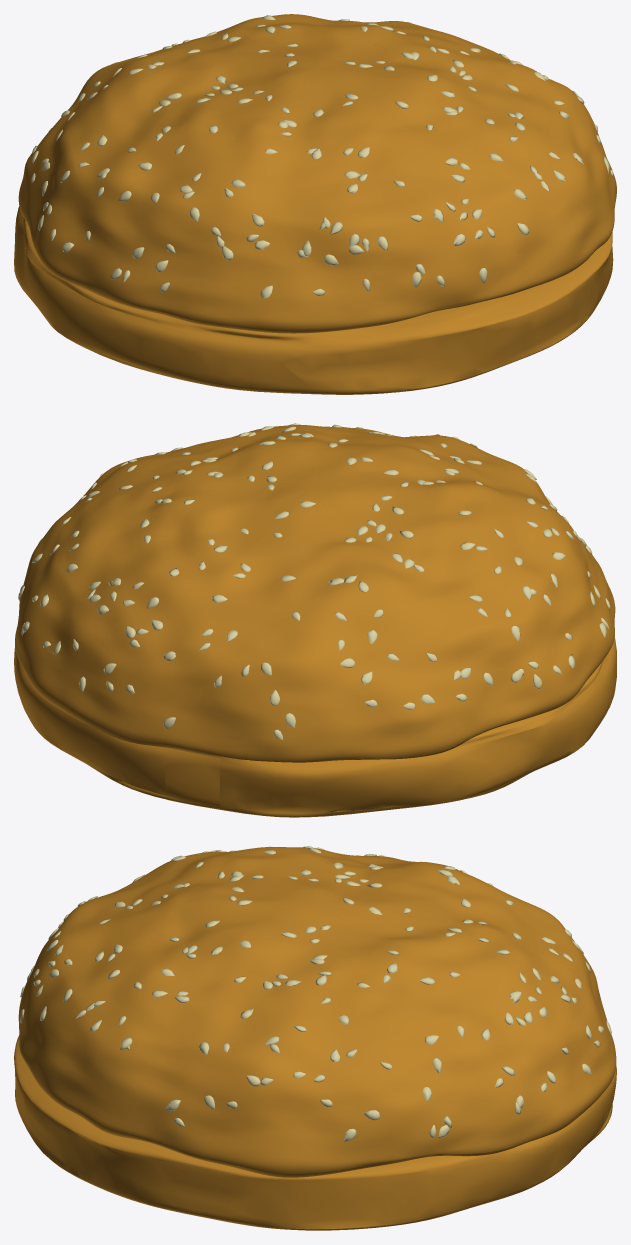
The model's file is hamburgerbuns.fbx.
The picture shows the model from 3 angles, top to bottom: view 1: azimuth 30°, elevation 25°; view 2: azimuth 150°, elevation 25°; view 3: azimuth 270°, elevation 25°; orthographic projection.
Parts seen in each view (by area): view 1: Cylinder.004, Cylinder.001, Sphere.001; view 2: Cylinder.004, Cylinder.001, Sphere.001; view 3: Cylinder.004, Cylinder.001, Sphere.001.
Boxes of the visible parts, x1,y1,x2,y2 form: Cylinder.004: [18, 14, 616, 333]; Cylinder.001: [14, 206, 613, 394]; Sphere.001: [31, 15, 613, 298]; Cylinder.004: [15, 425, 615, 762]; Cylinder.001: [14, 549, 616, 817]; Sphere.001: [18, 423, 610, 740]; Cylinder.004: [18, 847, 616, 1177]; Cylinder.001: [14, 1035, 616, 1230]; Sphere.001: [20, 846, 611, 1141].
Bounding box in the file's own units: 101 × 39.48 × 99.83.
